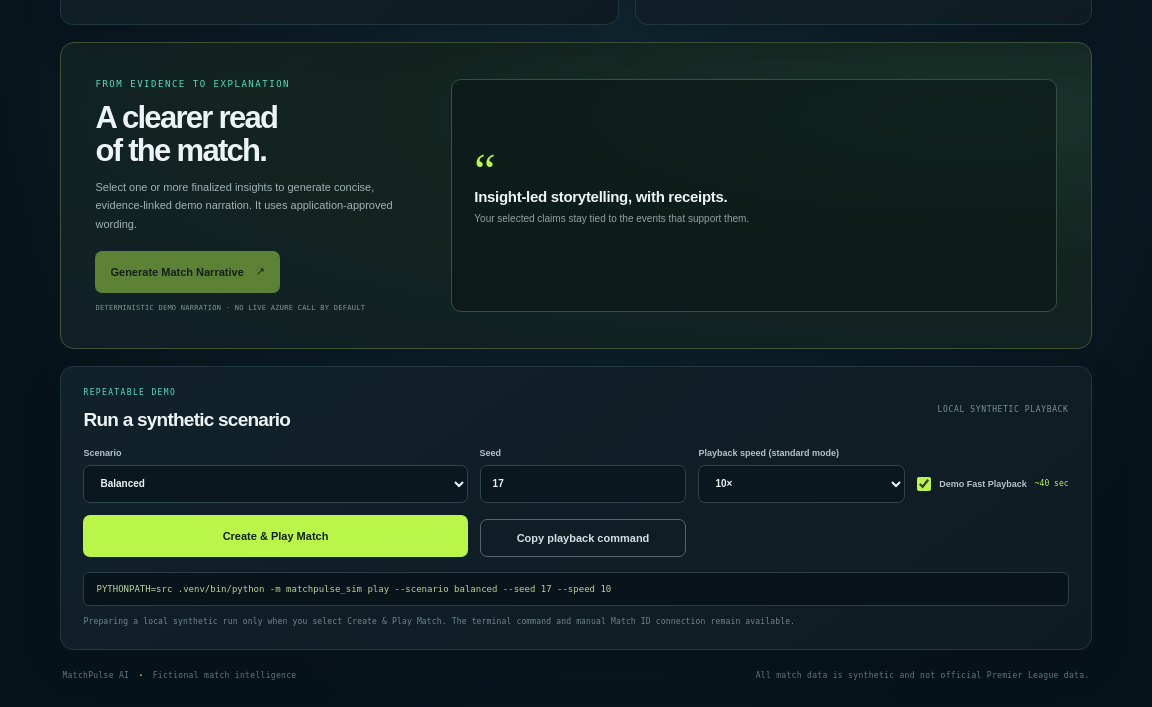
it: dashboard › creates a match from the selected controls and connects the dashboard automatically
(page scrolled)
Select "Late comeback" in the dropdown labelled "Scenario". click: coordinates (276, 484)
box: [84,465,468,503]
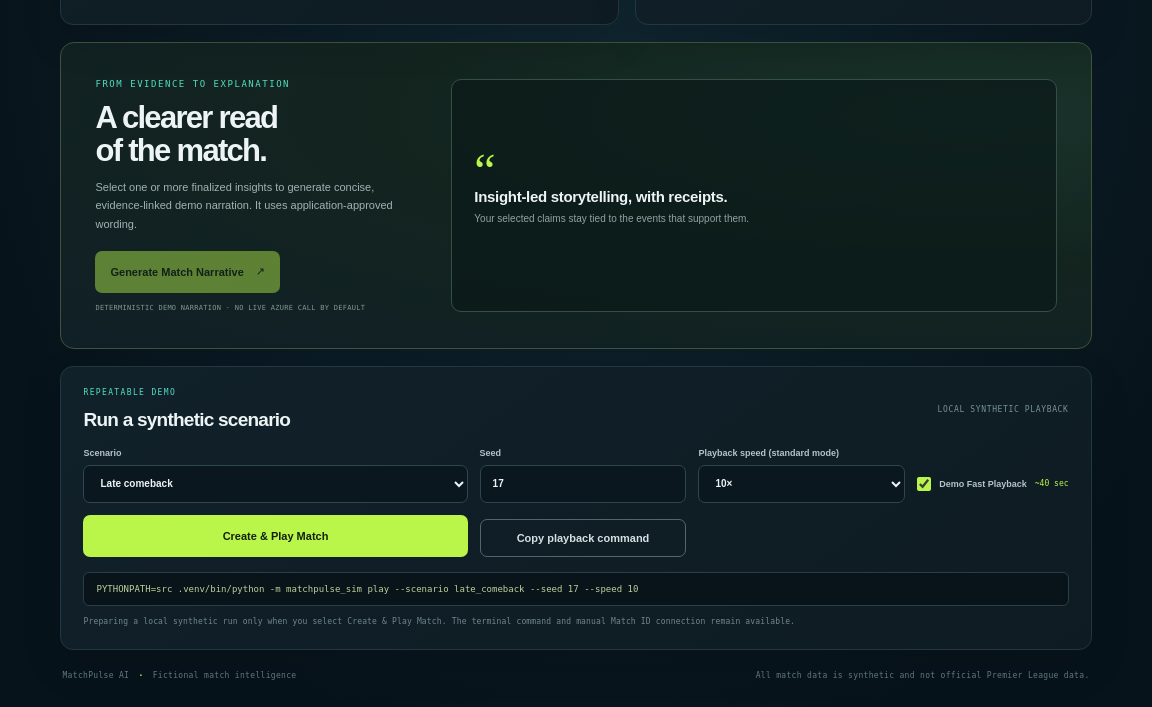
Replace the text in the number field labelled "Seed" with "29". click: coordinates (583, 484)
box: [480,465,686,503]
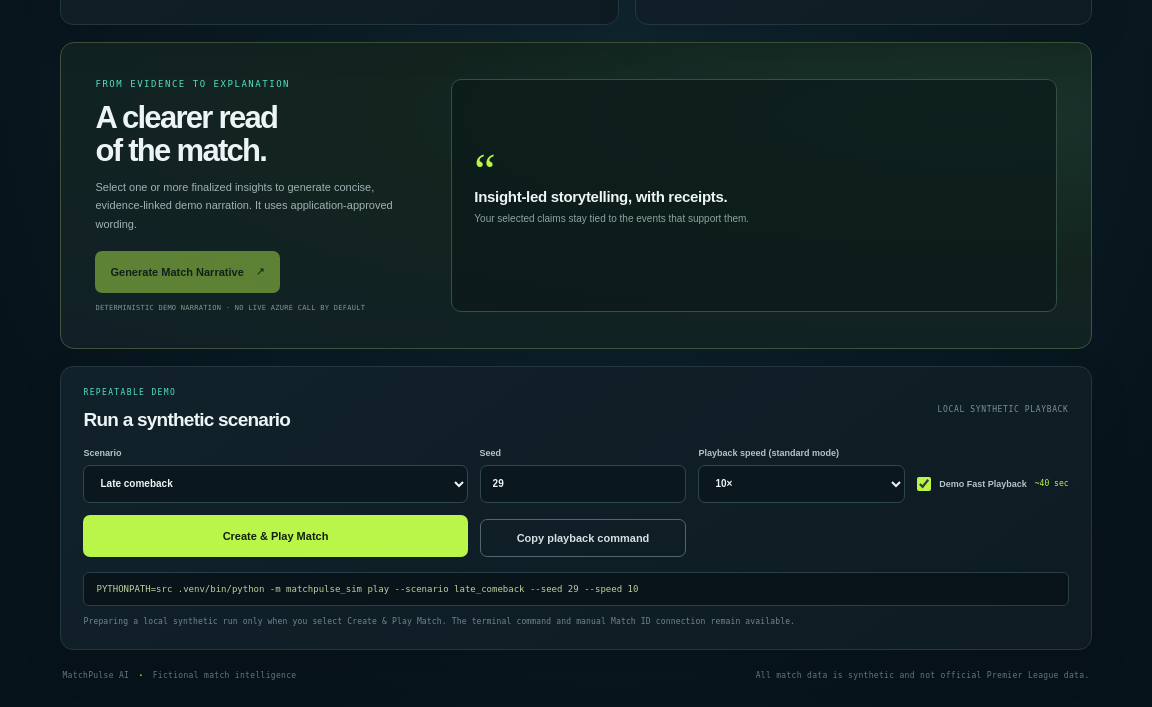
Select "20×" in the dropdown labelled "Playback speed (standard mode)". click: coordinates (802, 484)
box: [698,465,905,503]
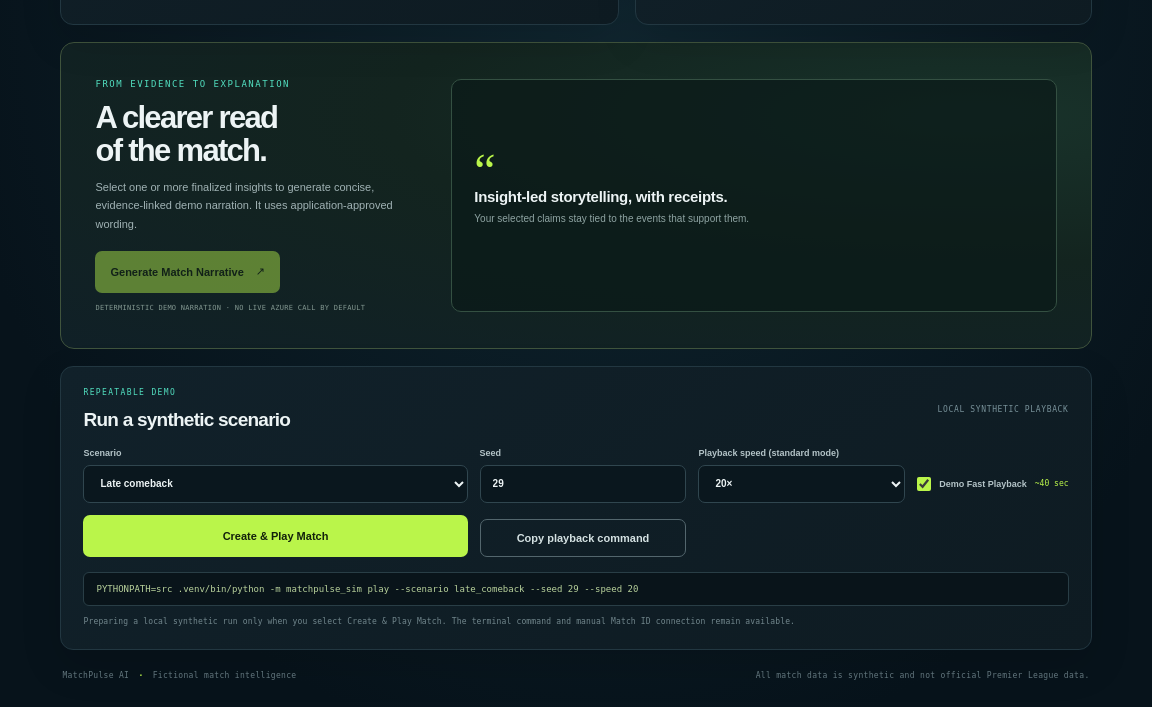
Click the button "Create & Play Match". click: coordinates (276, 536)
box: [84,515,468,557]
(page scrolled)
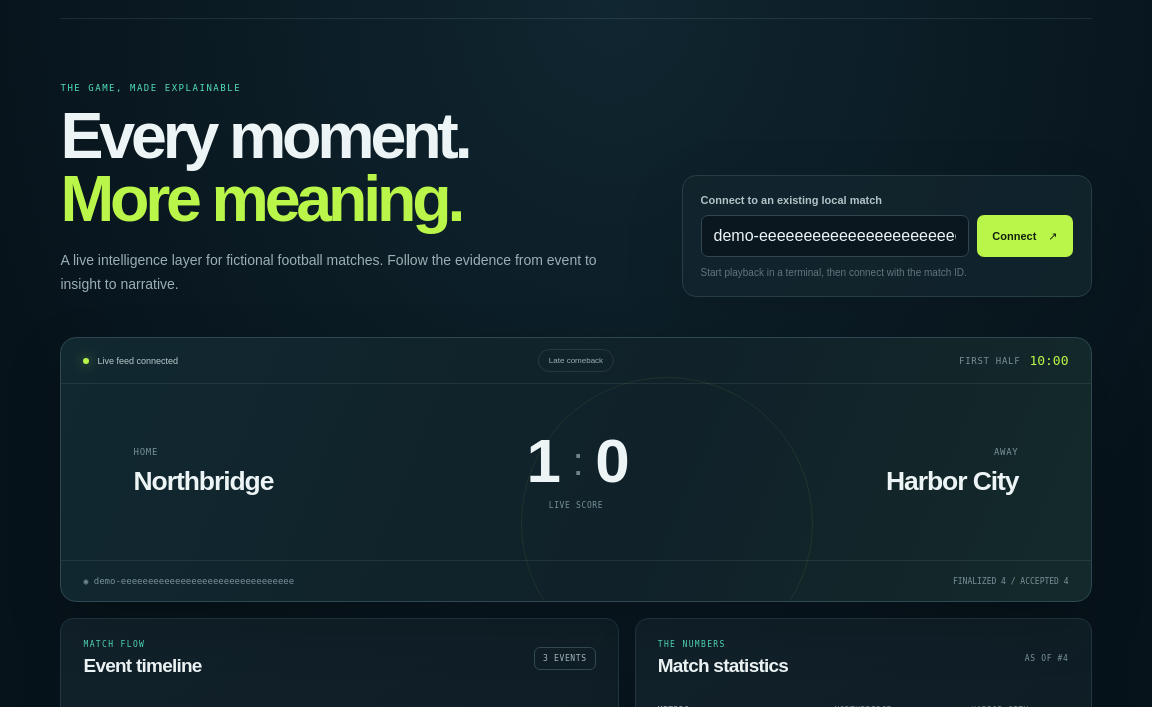
Result: the text "Live feed connected" is shown at [84,356,178,366]
Result: the text "Late comeback" is shown at [538,349,614,372]
